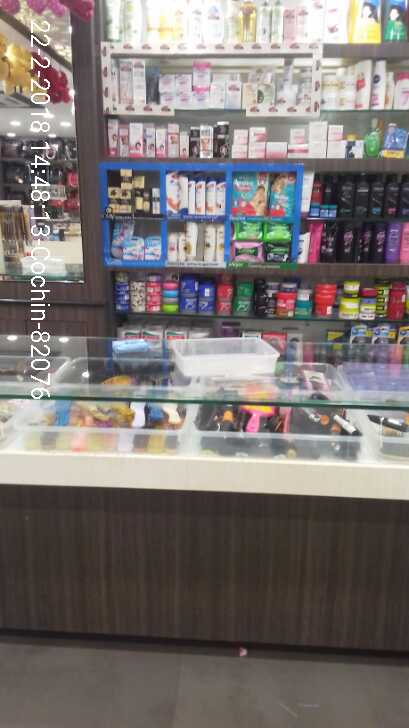venus: (144, 235, 162, 261), (112, 224, 123, 257), (124, 239, 142, 258)
